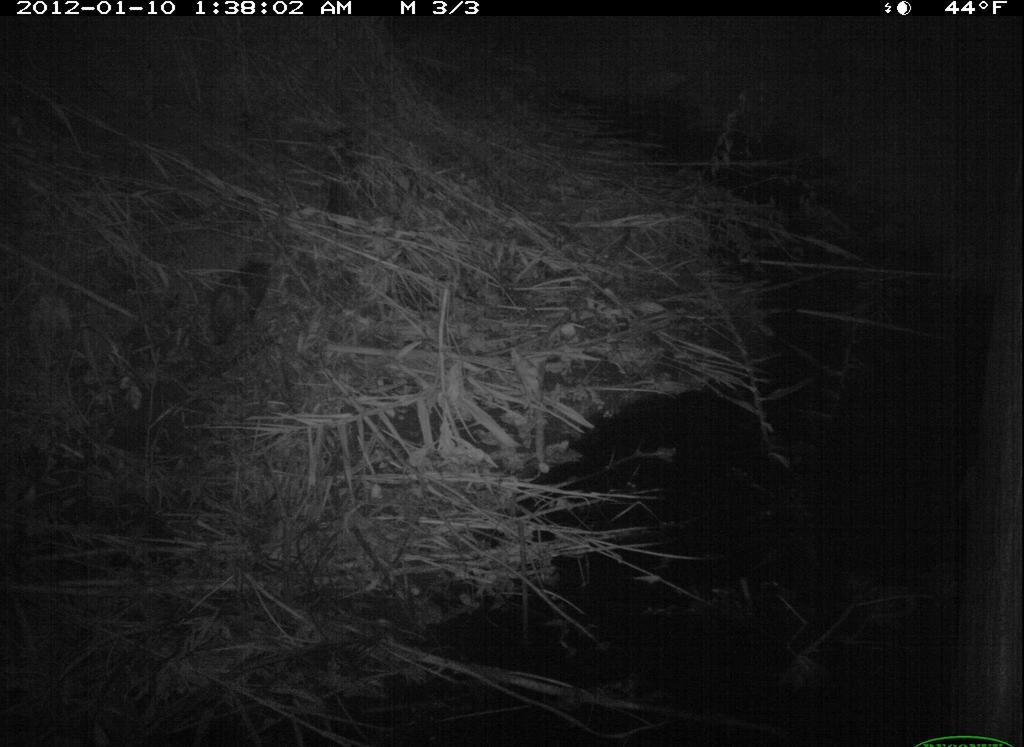opossum: (196, 255, 282, 356)
